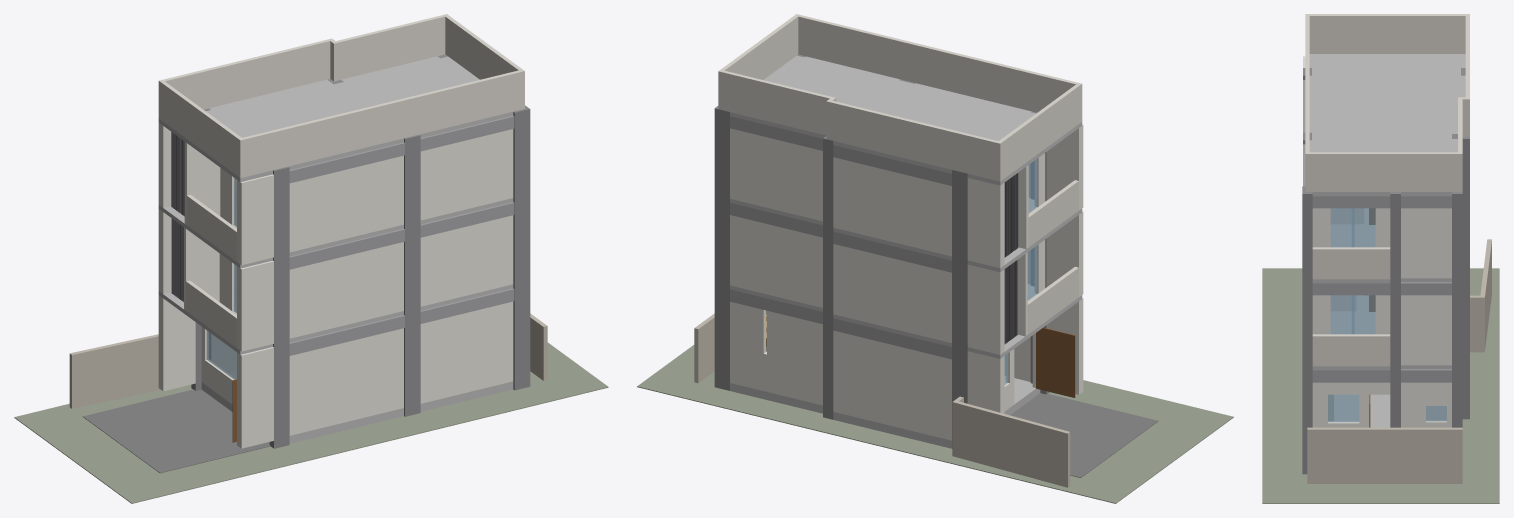
3 views of the same model, side by side, from view 1: azimuth 30°, elevation 25°; view 2: azimuth 150°, elevation 25°; view 3: azimuth 270°, elevation 25° (orthographic).
Visible parts, largest first — view 1: RF_parapet, 1F_wall, 3F_wall, 2F_wall, GL_ground, RF_slab, GL_paving, GL_fence, 1F_column, 3F_column, 2F_column, 2F_beam (+10 smaller); view 2: RF_parapet, 1F_wall, 2F_wall, 3F_wall, GL_ground, RF_slab, GL_fence, GL_paving, 3F_column, 2F_column, 1F_column, 2F_beam (+10 smaller); view 3: GL_ground, RF_slab, RF_parapet, GL_fence, 3F_wall, 2F_wall, 1F_wall, 3F_column, 2F_column, 1F_column, 2F_parapet, 3F_parapet (+9 smaller).
Part boxes in pixels (box(x1,y1,x2,y2)): RF_parapet: box(158, 14, 524, 177); 1F_wall: box(158, 295, 513, 448); 3F_wall: box(158, 123, 513, 265); 2F_wall: box(158, 209, 513, 351); GL_ground: box(14, 342, 608, 503); RF_slab: box(158, 56, 513, 182); GL_paving: box(82, 389, 270, 473); GL_fence: box(69, 313, 547, 408); 1F_column: box(191, 281, 530, 448); 3F_column: box(204, 54, 530, 257); 2F_column: box(273, 195, 530, 343); 2F_beam: box(289, 288, 514, 355); RF_parapet: box(718, 14, 1082, 181); 1F_wall: box(730, 298, 1083, 440); 2F_wall: box(730, 211, 1083, 354); 3F_wall: box(730, 124, 1083, 268); GL_ground: box(637, 345, 1233, 503); RF_slab: box(730, 55, 1082, 185); GL_fence: box(694, 313, 1070, 487); GL_paving: box(1010, 393, 1158, 477); 3F_column: box(714, 54, 1046, 260); 2F_column: box(714, 195, 1046, 346); 1F_column: box(714, 282, 1049, 448); 2F_beam: box(730, 289, 951, 359); GL_ground: box(1262, 268, 1499, 503); RF_slab: box(1309, 54, 1465, 196); RF_parapet: box(1305, 14, 1469, 191); GL_fence: box(1307, 239, 1491, 483); 3F_wall: box(1303, 56, 1451, 278); 2F_wall: box(1312, 295, 1451, 365); 1F_wall: box(1312, 382, 1451, 427); 3F_column: box(1302, 68, 1469, 280); 2F_column: box(1302, 226, 1469, 367); 1F_column: box(1302, 313, 1469, 474); 2F_parapet: box(1312, 334, 1390, 366); 3F_parapet: box(1312, 247, 1390, 279).
Bounding box in the file's own units: 18.5 × 7.9 × 11.73.
